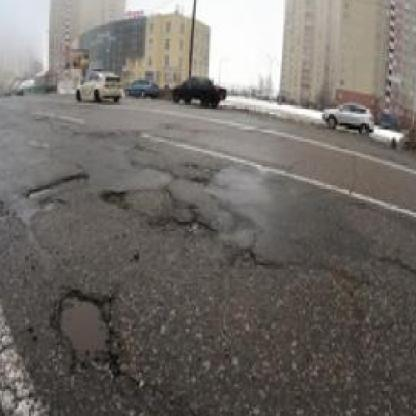pothole: (61, 290, 120, 364), (26, 174, 88, 197), (232, 245, 256, 269), (104, 190, 126, 208), (180, 217, 200, 234), (193, 174, 214, 190)
